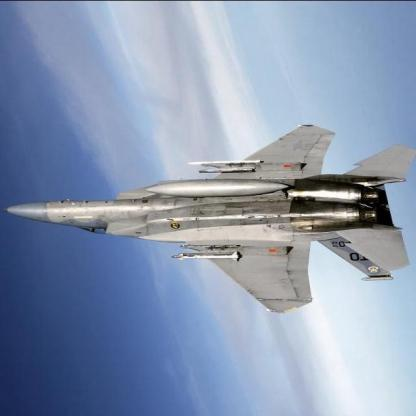MIL_TBM: (172, 251, 238, 260), (187, 159, 260, 163)
